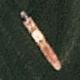ship: (0, 0, 26, 32)
